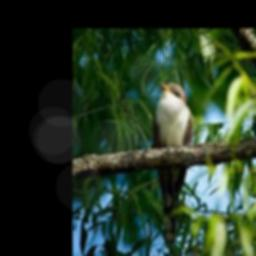Cuckoo: (153, 81, 193, 243)
